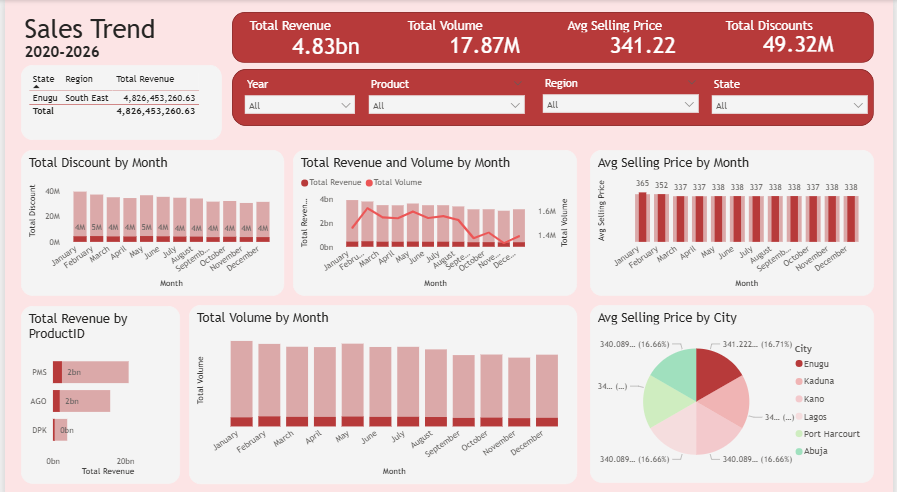

This screenshot's page, from the dashboard's own definition file:
{"tool":"powerbi","page":{"name":"Sales Trend","canvas":[1280,720],"ordinal":0},"visuals":[{"type":"shape","box":[326.9,99.4,924.5,82.1],"z":0},{"type":"shape","box":[326.9,17.3,924.5,73.4],"z":1000},{"type":"slicer","fields":{"Values":["Daily Sales.Date.Variation.Date Hierarchy.Year"]},"box":[335.5,107.2,178.3,67.1],"z":1000,"group":"g1"},{"type":"clusteredColumnChart","fields":{"Y":["_Measures.Total Volume"],"Category":["Daily Sales.Date.Variation.Date Hierarchy.Month"]},"box":[265,439.2,558.7,257.8],"z":2000},{"type":"clusteredColumnChart","fields":{"Category":["Daily Sales.Date.Variation.Date Hierarchy.Month"],"Y":["_Measures.Total Discount"]},"box":[23,216,378.7,210.2],"z":3000},{"type":"clusteredColumnChart","fields":{"Y":["_Measures.Avg Selling Price"],"Category":["Daily Sales.Date.Variation.Date Hierarchy.Month"]},"box":[842.4,216,409,210.2],"z":4000},{"type":"textbox","box":[23.5,15.1,267.1,84],"z":5000},{"type":"group","id":"g1","title":"Group 1","box":[335.5,105.1,915.8,69.1],"z":6000},{"type":"slicer","fields":{"Values":["Products.ProductID"]},"box":[513.7,106.6,243.6,66.7],"z":6000,"group":"g1"},{"type":"slicer","fields":{"Values":["Stations.Region"]},"box":[764.2,105.1,243.6,68.2],"z":7000,"group":"g1"},{"type":"lineStackedColumnComboChart","title":"Total Revenue and Volume by Month","fields":{"Category":["Daily Sales.Date.Variation.Date Hierarchy.Month"],"Y":["_Measures.Total Revenue"],"Y2":["_Measures.Total Volume"]},"box":[414.7,216,409,210.2],"z":7000},{"type":"slicer","fields":{"Values":["Stations.State"]},"box":[1007.8,106.6,243.6,66.7],"z":8000,"group":"g1"},{"type":"clusteredBarChart","fields":{"Category":["Products.ProductID"],"Y":["_Measures.Total Revenue"]},"box":[23,440.6,229,256.3],"z":8000},{"type":"card","title":"Total Volume","fields":{"Values":["_Measures.Total Volume"]},"box":[574.5,24.6,231.8,57.6],"z":9000,"group":"g2"},{"type":"tableEx","fields":{"Values":["Stations.State","Stations.Region","_Measures.Total Revenue"]},"box":[23,93.6,289.4,108],"z":9000},{"type":"card","title":"Total Revenue","fields":{"Values":["_Measures.Total Revenue"]},"box":[347,24.6,230.4,60.5],"z":10000,"group":"g2"},{"type":"pieChart","fields":{"Category":["Stations.City"],"Y":["_Measures.Avg Selling Price"]},"box":[842.4,439.2,409,256.3],"z":10000},{"type":"group","id":"g2","title":"Group 2","box":[347,24.5,904.3,60.5],"z":11000},{"type":"card","title":"Total Discounts","fields":{"Values":["_Measures.Total Discount"]},"box":[1032.5,24.5,219.5,55.1],"z":11000,"group":"g2"},{"type":"card","title":"Avg Selling Price","fields":{"Values":["_Measures.Avg Selling Price"]},"box":[805.1,24.5,227.4,57.3],"z":12000,"group":"g2"}]}

Visuals, with their boxes in screenshot pixels (x1, y1, x2, y2), scaled from the page's 1280x720 canvas onto the 897x492 screenshot:
shape: 229/68/877/124
shape: 229/12/877/62
slicer - Daily Sales.Date.Variation.Date Hierarchy.Year: 235/73/360/119
clusteredColumnChart - _Measures.Total Volume x Daily Sales.Date.Variation.Date Hierarchy.Month: 186/300/577/476
clusteredColumnChart - Daily Sales.Date.Variation.Date Hierarchy.Month x _Measures.Total Discount: 16/148/282/291
clusteredColumnChart - _Measures.Avg Selling Price x Daily Sales.Date.Variation.Date Hierarchy.Month: 590/148/877/291
textbox: 16/10/204/68
"Group 1" group: 235/72/877/119
slicer - Products.ProductID: 360/73/531/118
slicer - Stations.Region: 536/72/706/118
"Total Revenue and Volume by Month" lineStackedColumnComboChart: 291/148/577/291
slicer - Stations.State: 706/73/877/118
clusteredBarChart - Products.ProductID x _Measures.Total Revenue: 16/301/177/476
"Total Volume" card: 403/17/565/56
tableEx - Stations.State x Stations.Region: 16/64/219/138
"Total Revenue" card: 243/17/405/58
pieChart - Stations.City x _Measures.Avg Selling Price: 590/300/877/475
"Group 2" group: 243/17/877/58
"Total Discounts" card: 724/17/877/54
"Avg Selling Price" card: 564/17/724/56
